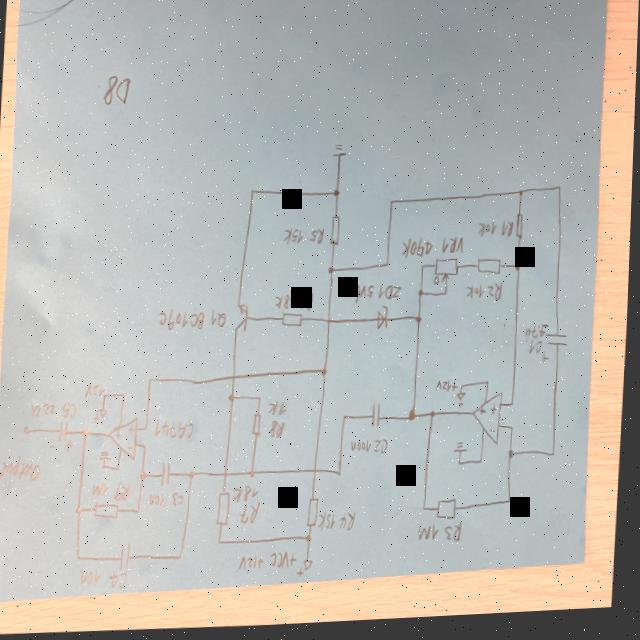capacitor: (538, 326, 571, 371), (51, 419, 77, 452), (161, 460, 176, 490), (122, 542, 135, 571), (372, 405, 384, 433)
crossover: (232, 374, 239, 384), (314, 469, 320, 477), (327, 320, 333, 328), (225, 472, 231, 480)
diode: (375, 307, 392, 336)
ground: (330, 145, 350, 163), (455, 444, 471, 458), (101, 450, 114, 461)
junction: (409, 413, 418, 425), (141, 471, 150, 482), (229, 394, 238, 404), (509, 453, 517, 464), (333, 191, 341, 201), (328, 268, 336, 278), (515, 267, 523, 277), (251, 470, 259, 480), (322, 370, 330, 380), (77, 505, 85, 515), (190, 471, 198, 481), (84, 427, 91, 438), (417, 318, 424, 328), (431, 413, 438, 422), (308, 537, 315, 546), (552, 456, 559, 464), (388, 201, 395, 209), (180, 554, 187, 562), (519, 192, 525, 201), (486, 382, 492, 391), (78, 553, 84, 562), (250, 189, 256, 198), (137, 508, 144, 515), (419, 293, 425, 301), (511, 405, 517, 413), (557, 189, 563, 197), (149, 377, 155, 385), (145, 425, 151, 433), (511, 429, 517, 437), (122, 392, 128, 400), (144, 443, 150, 451), (117, 466, 123, 474), (220, 541, 226, 548), (385, 265, 391, 272), (344, 417, 349, 424), (339, 473, 344, 480), (480, 463, 485, 470), (421, 267, 426, 274), (444, 295, 449, 301), (510, 503, 515, 509), (259, 397, 264, 403), (459, 464, 464, 470), (425, 509, 429, 516), (105, 393, 109, 399), (105, 465, 109, 469)
resistor: (434, 260, 460, 291), (278, 311, 309, 333), (438, 500, 462, 526), (218, 492, 234, 528), (328, 216, 344, 251), (476, 261, 504, 280), (96, 502, 122, 520), (309, 499, 323, 530), (253, 413, 265, 439), (516, 218, 524, 245)
source: (305, 561, 317, 573), (458, 394, 468, 405), (101, 409, 109, 420)
terminal: (25, 424, 33, 434)
text: (159, 305, 208, 334), (0, 453, 44, 483), (156, 416, 197, 443), (402, 239, 435, 263), (241, 502, 264, 529), (272, 551, 300, 572), (241, 554, 268, 573), (441, 239, 465, 260), (236, 487, 263, 505), (82, 567, 105, 588), (447, 524, 466, 549), (283, 230, 307, 249), (379, 286, 404, 304), (355, 287, 376, 308), (420, 527, 443, 546), (112, 570, 132, 591), (341, 513, 360, 535), (32, 401, 58, 417), (321, 512, 339, 534), (436, 382, 460, 398), (278, 293, 297, 312), (299, 294, 317, 314), (268, 402, 289, 419), (117, 481, 134, 502), (211, 310, 228, 330), (488, 285, 504, 306), (352, 442, 374, 457), (478, 225, 497, 242), (271, 422, 288, 441), (467, 287, 486, 304), (526, 329, 546, 345), (87, 383, 107, 398), (311, 229, 325, 250), (375, 441, 392, 458), (63, 401, 79, 419), (151, 493, 169, 508), (94, 482, 112, 497), (529, 345, 545, 361), (174, 492, 187, 508), (502, 225, 514, 242), (299, 567, 308, 582), (492, 407, 499, 421), (117, 429, 124, 442), (131, 423, 137, 438), (95, 411, 101, 424), (482, 411, 489, 421), (128, 445, 136, 453), (435, 280, 441, 289), (459, 405, 466, 412), (492, 432, 498, 438)
transistor: (234, 301, 254, 336)
